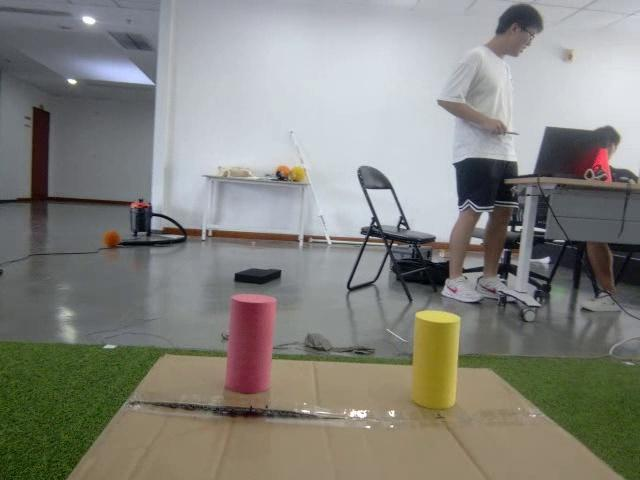red_cylinder: (221, 290, 276, 395)
yellow_cylinder: (406, 307, 464, 410)
